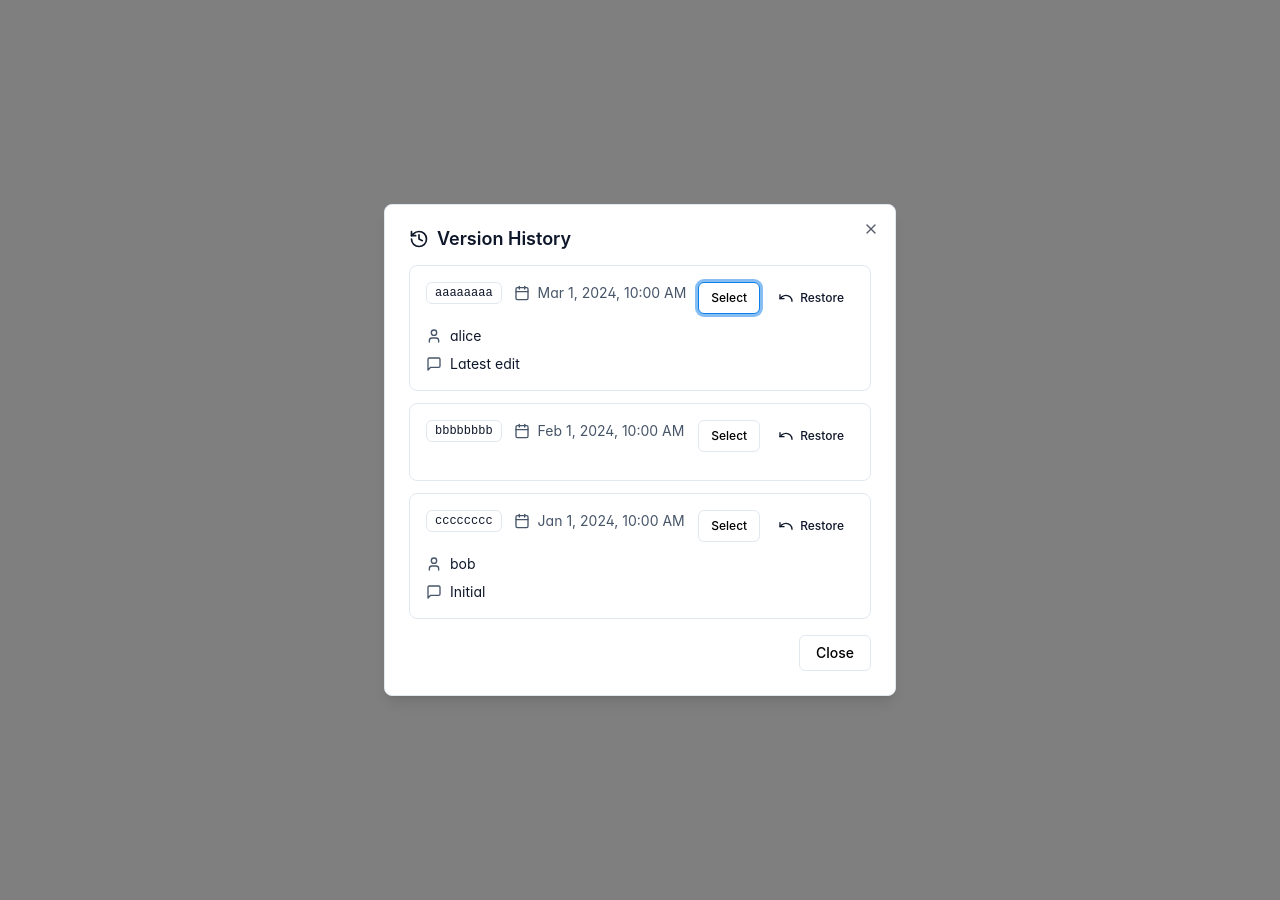
Test case: VersionHistoryModal › shows the error when comparing fails
The width and height of the screenshot is (1280, 900).
Step 1. Click the button "Select" next to "Mar 1, 2024, 10:00 AM" → [729, 298], box [698, 282, 760, 314]
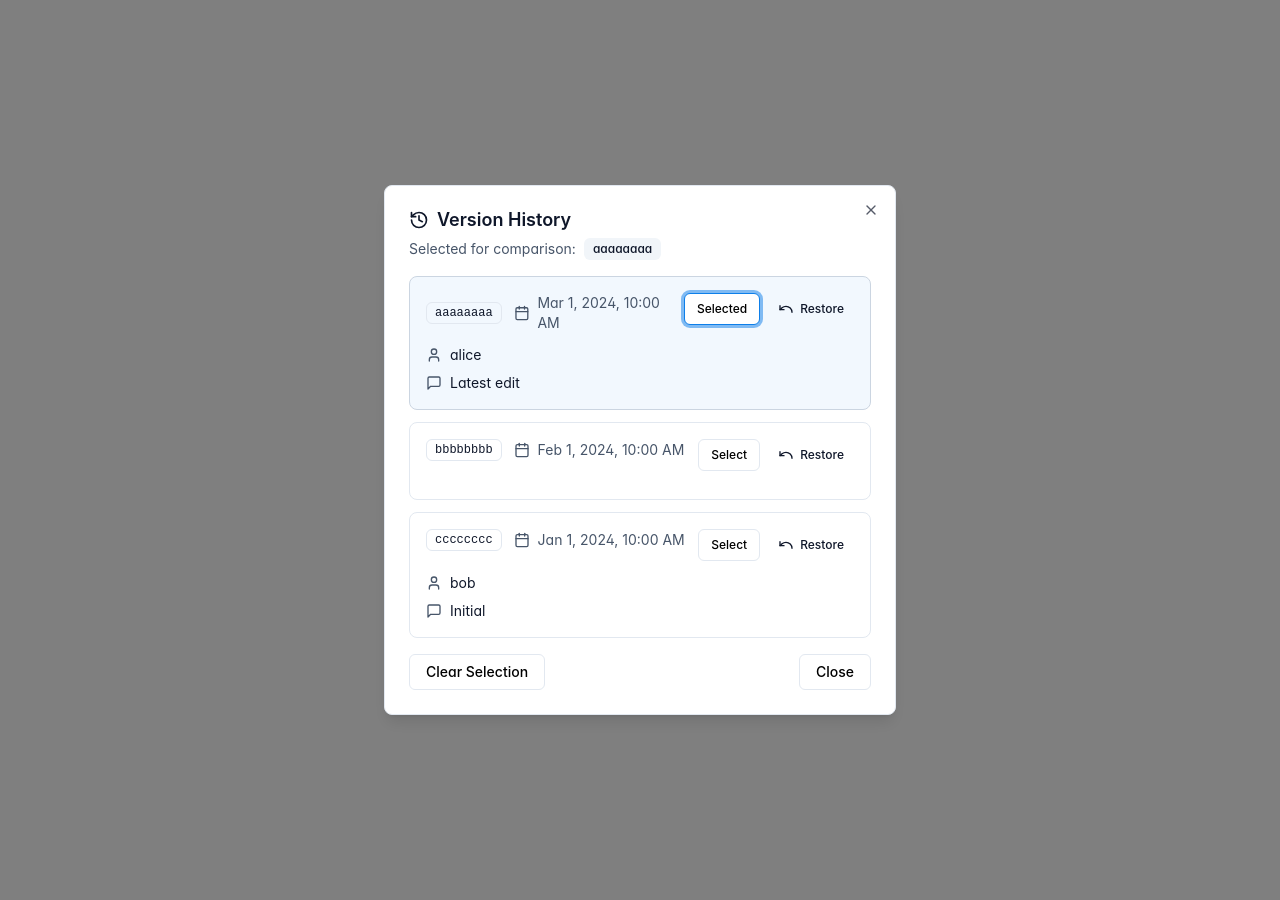
Step 2. Click the button "Select" next to "Feb 1, 2024, 10:00 AM" → [729, 455], box [698, 439, 760, 471]
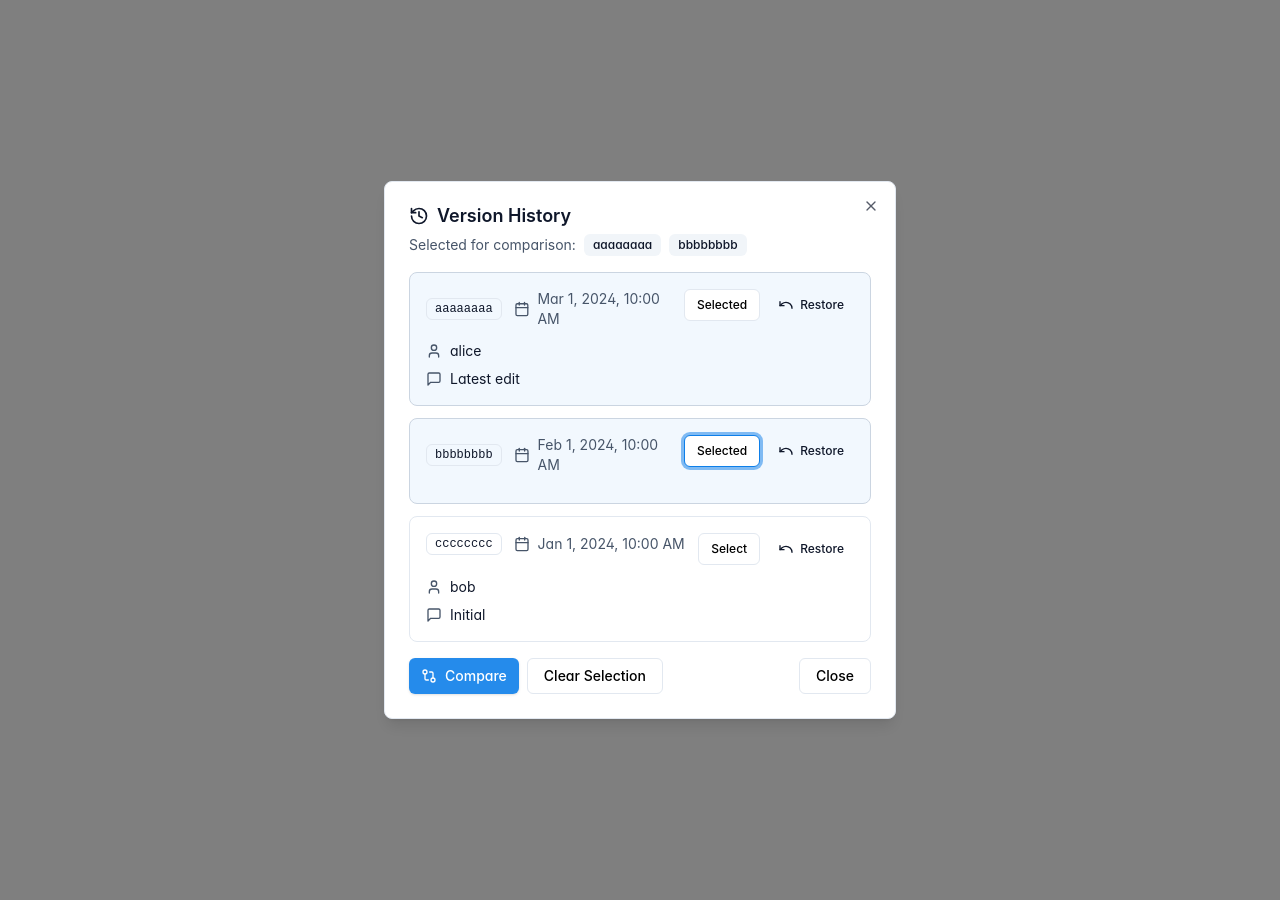
Step 3. Click the button "Compare" → [464, 676], box [409, 658, 519, 694]
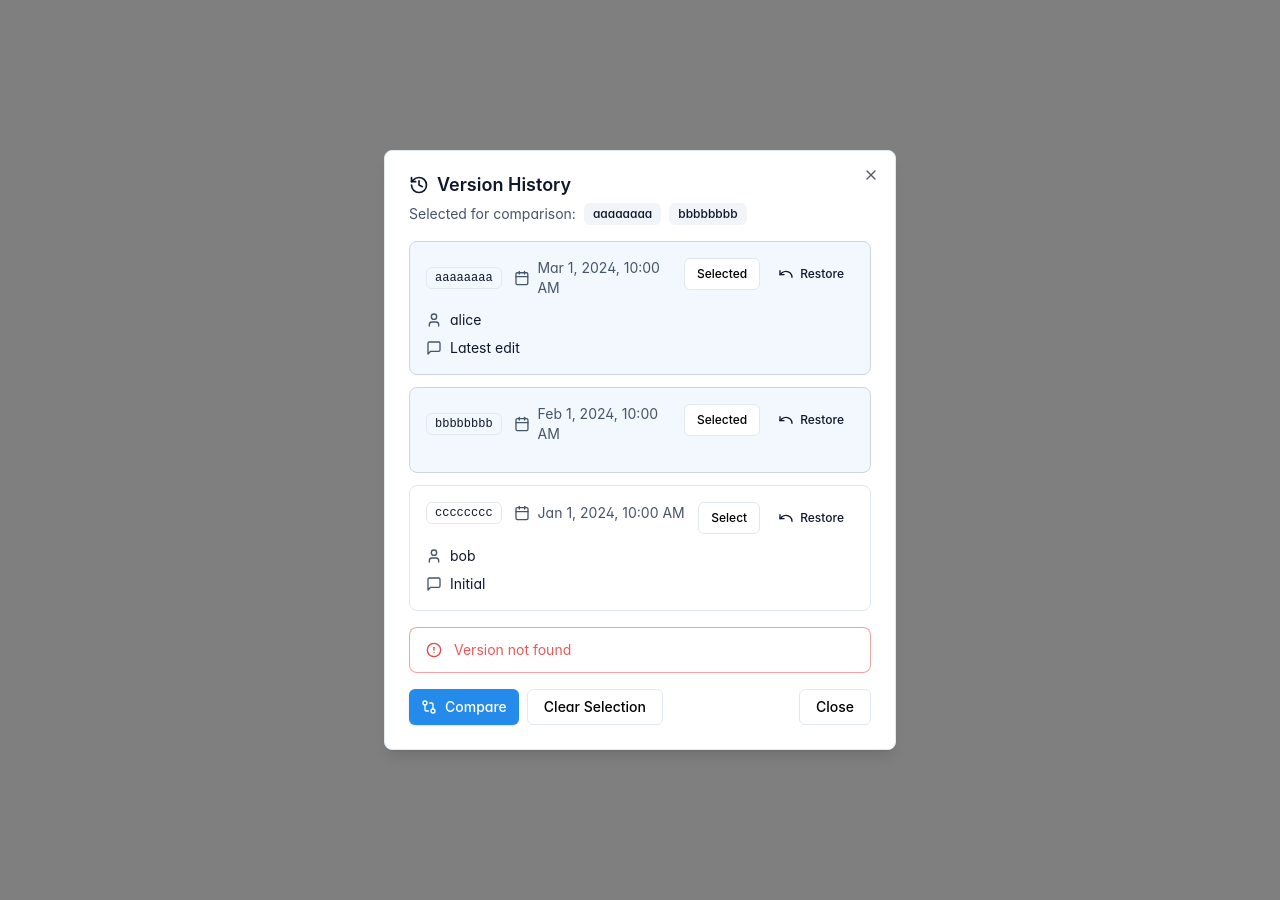
Expected: the heading "Version History" is shown, [409, 174, 571, 195]
Expected: the text "Version not found" is shown, [454, 640, 571, 660]
